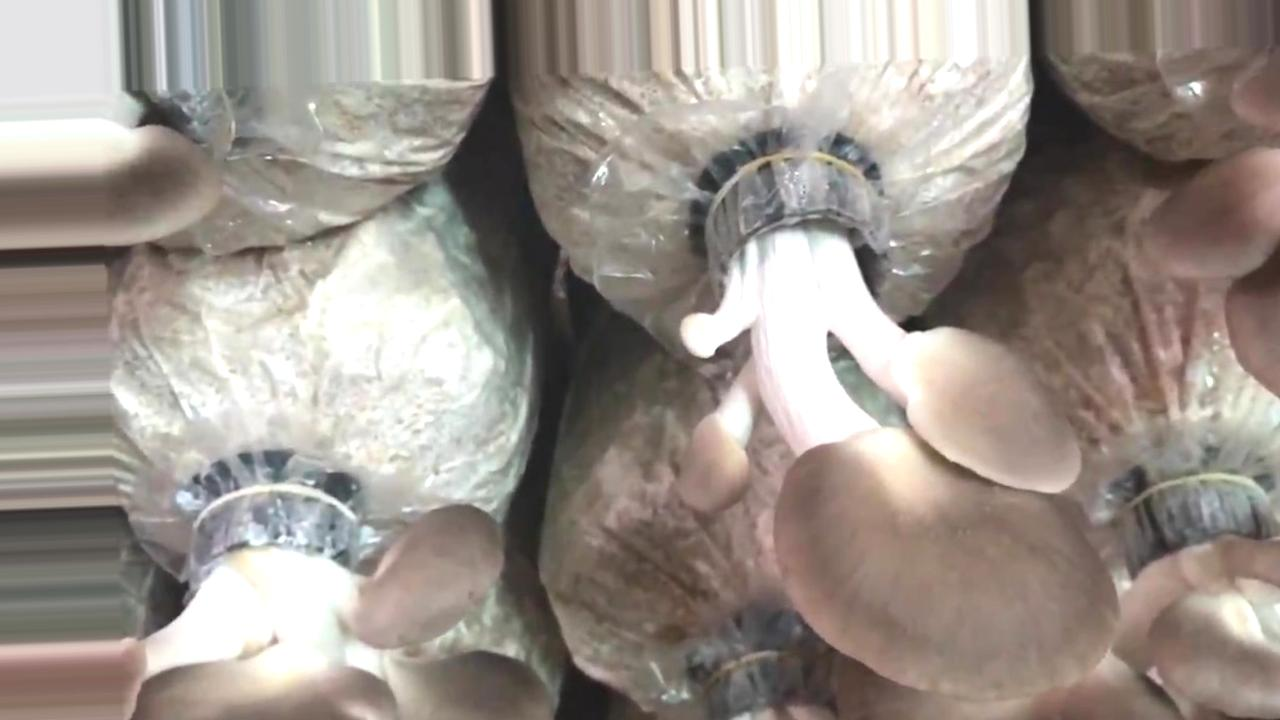nam: (681, 138, 1120, 696), (3, 456, 557, 720), (1034, 467, 1278, 720), (1, 117, 210, 253)
